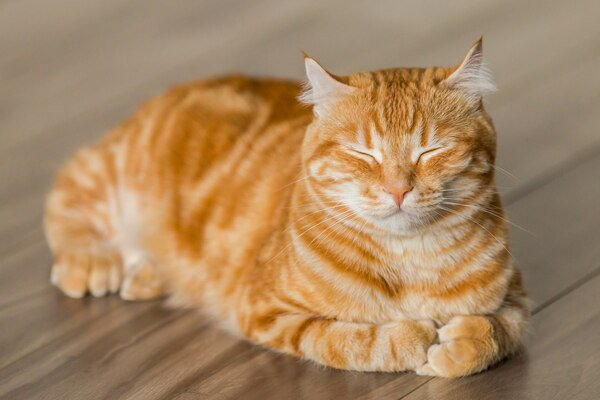cat: (60, 46, 546, 378)
